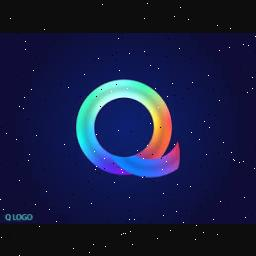q: (72, 72, 190, 186)
